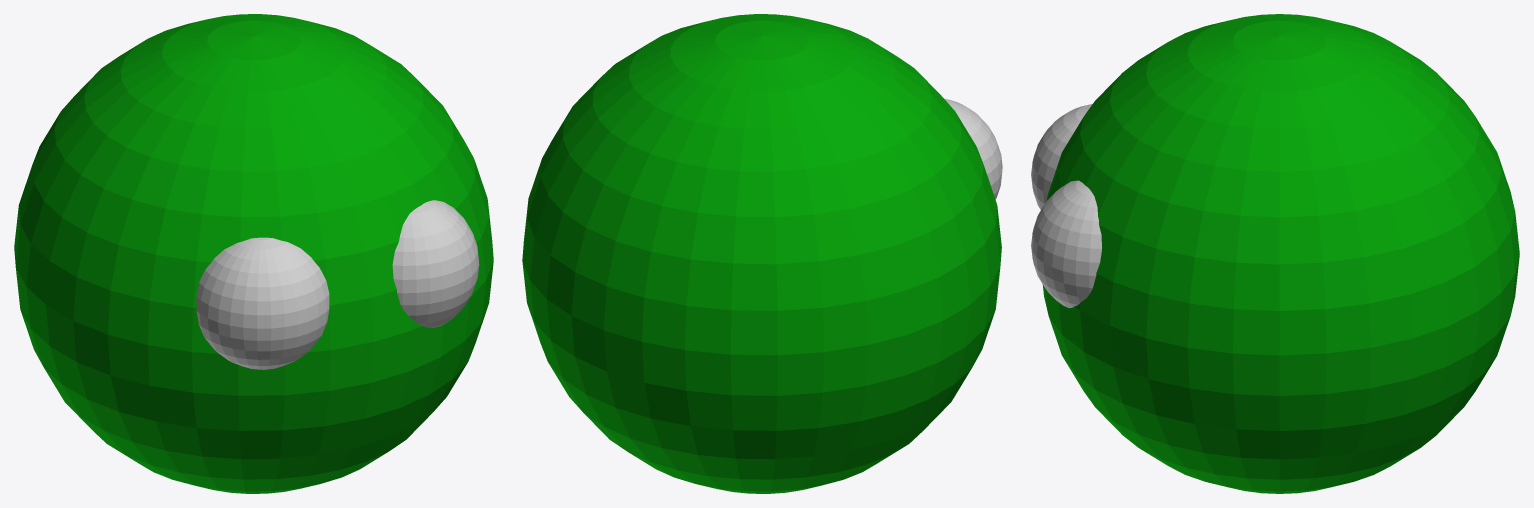
Rendered from body.dae.
3 views of the same model, side by side, from view 1: azimuth 30°, elevation 25°; view 2: azimuth 150°, elevation 25°; view 3: azimuth 270°, elevation 25° (orthographic).
Parts seen in each view (by area): view 1: head, eye_r, eye_l; view 2: head, eye_r; view 3: head, eye_l, eye_r.
Boxes of the visible parts, x1=… form: head: x1=14, y1=14, x2=493, y2=493; eye_r: x1=196, y1=237, x2=329, y2=369; eye_l: x1=392, y1=200, x2=479, y2=328; head: x1=522, y1=14, x2=1001, y2=493; eye_r: x1=944, y1=98, x2=1002, y2=199; head: x1=1042, y1=14, x2=1519, y2=493; eye_l: x1=1031, y1=180, x2=1101, y2=308; eye_r: x1=1031, y1=104, x2=1092, y2=209.
Size of the model in its own units: 2 by 2 by 2.03.
